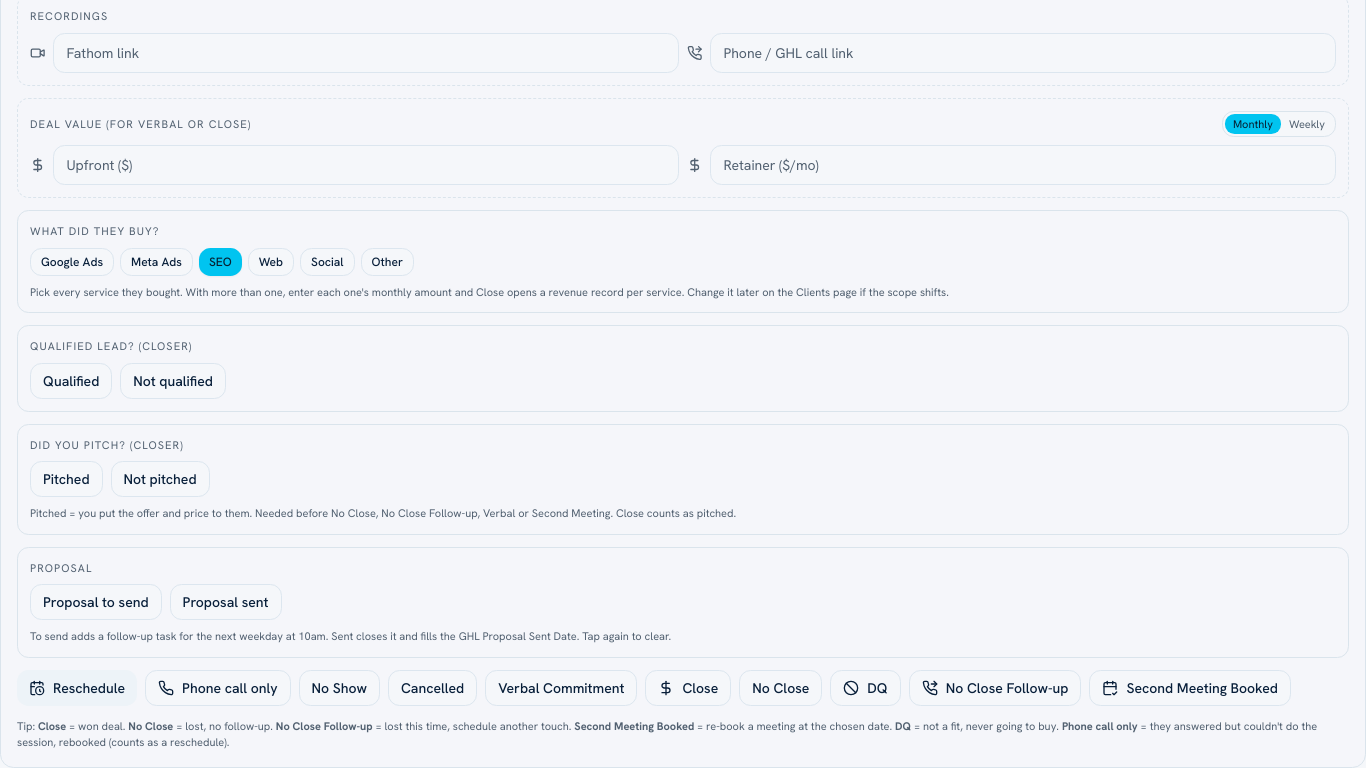
Scenario: outcome buttons ask for the reason inline › Phone call only logs a reschedule with the phone reason
Later steps or results of the test are not shown.
(page scrolled)
Click the button "Phone call only" at (218, 688), box [145,670,291,706]
(page scrolled)
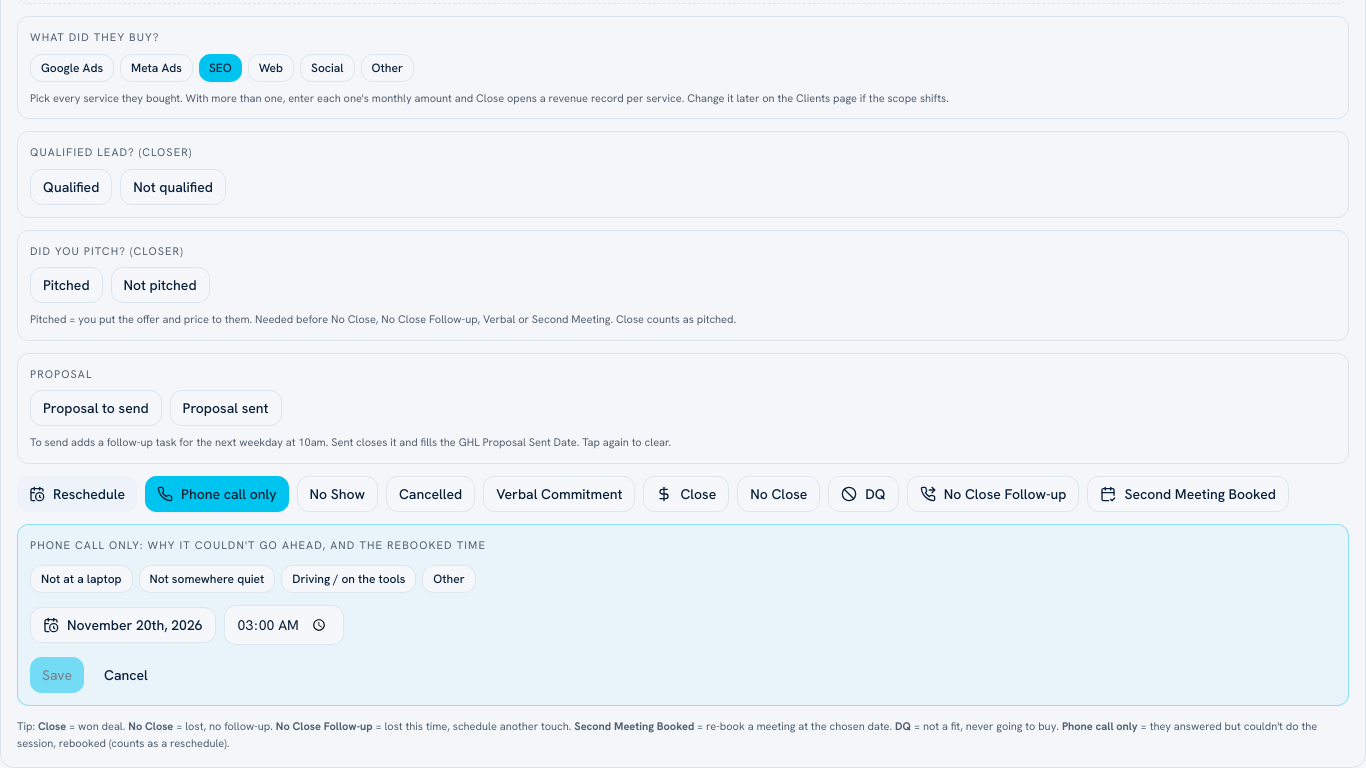
Check: the button "Save" is disabled, box [30,657,84,693]
